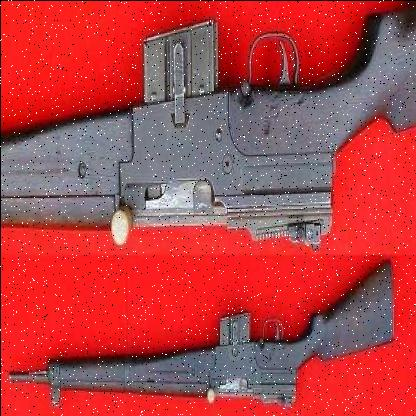rifle: (1, 1, 415, 244), (4, 256, 410, 416)
